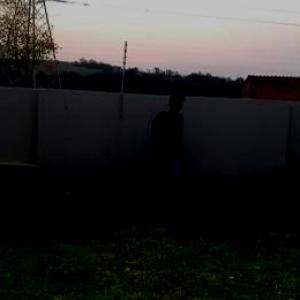follow: (146, 90, 184, 215)
